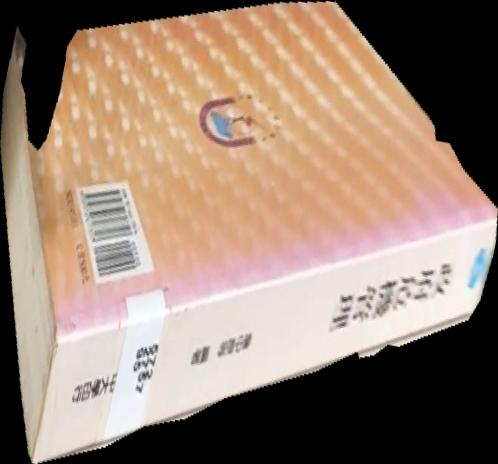flat: (1, 1, 498, 464)
